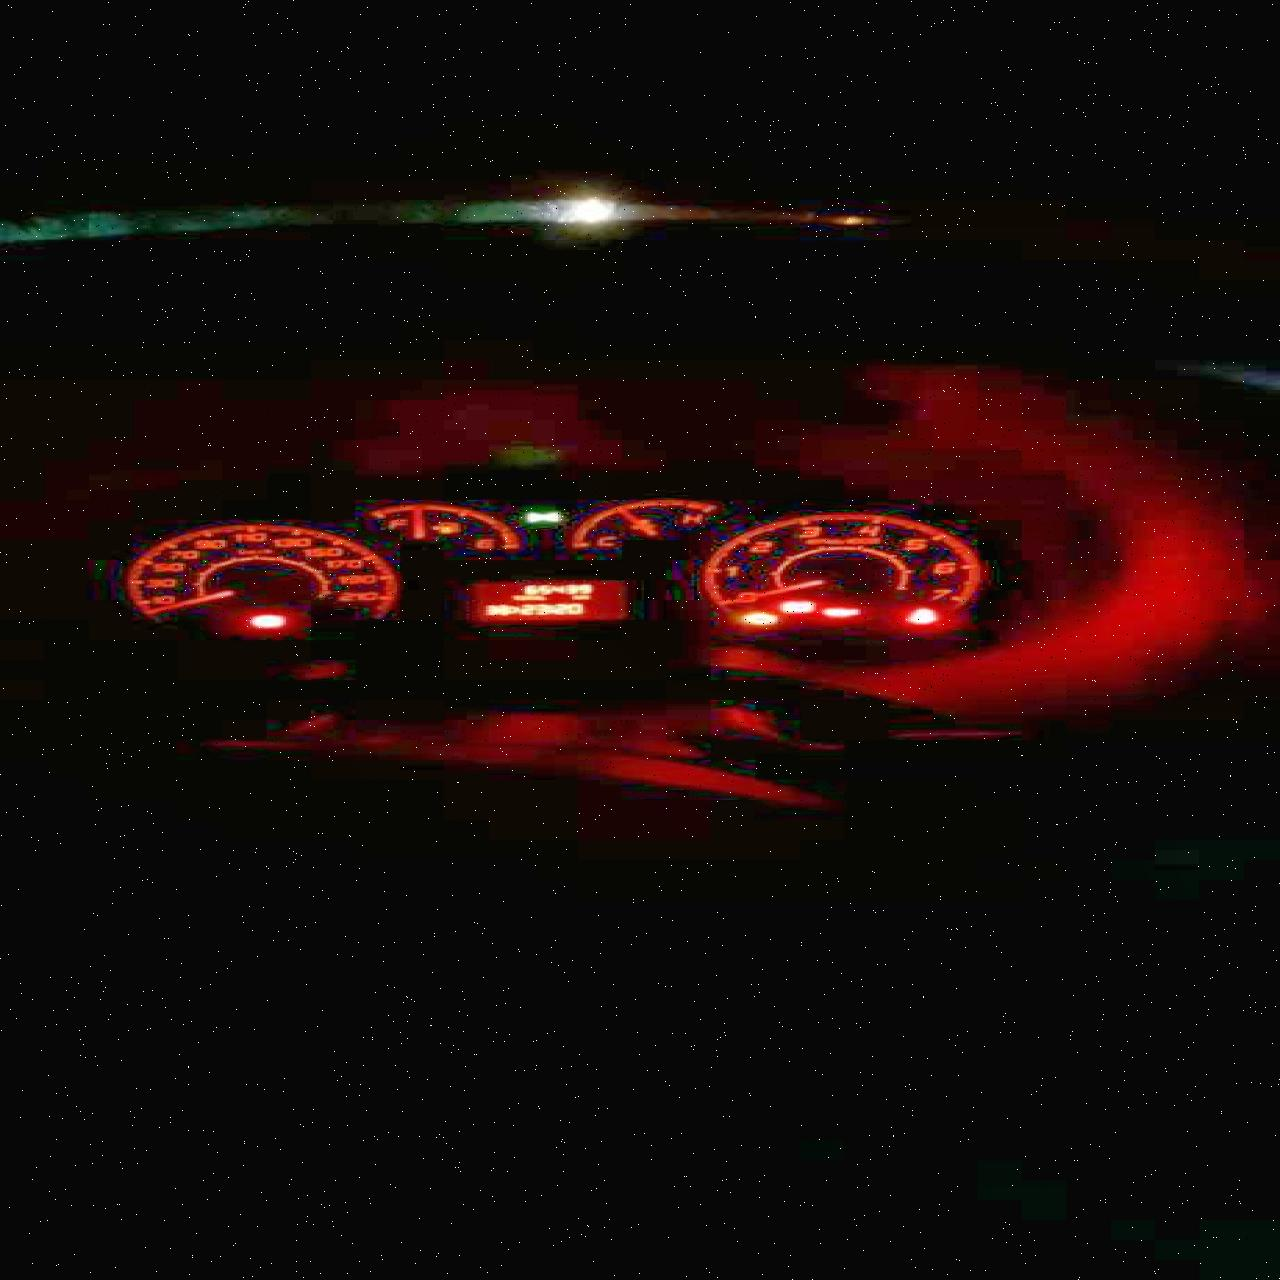0: (567, 602, 584, 613)
2: (517, 604, 533, 614), (552, 602, 566, 613)
3: (483, 604, 497, 614), (533, 602, 547, 613), (564, 584, 578, 592)
4: (550, 584, 561, 592)
5: (536, 584, 550, 594)
6: (519, 584, 536, 592)
9: (578, 584, 588, 592)
odometer: (467, 580, 621, 621)
